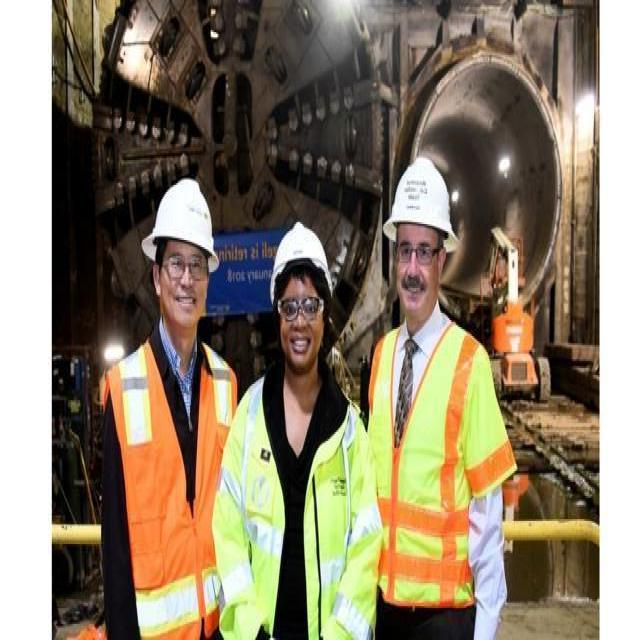helmet: (135, 170, 233, 266), (266, 219, 342, 310), (384, 152, 454, 250)
jacket: (364, 308, 512, 639), (96, 322, 239, 640), (220, 348, 366, 640)
